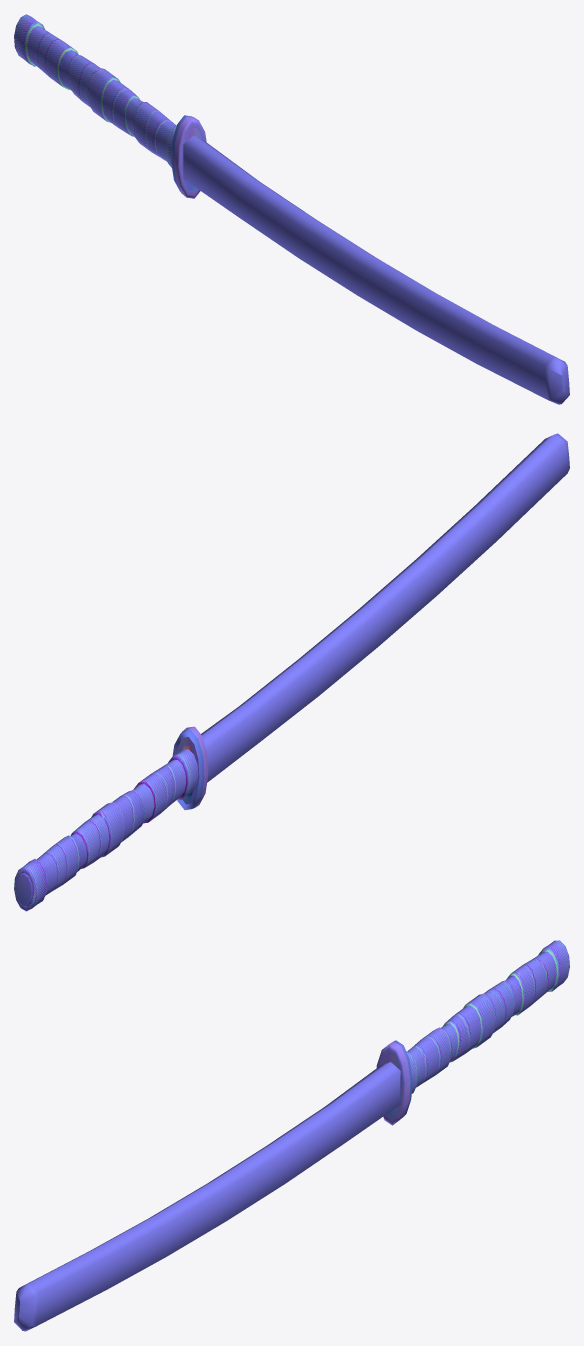
Rendered from Katana.fbx.
3 renders of one model, top to bottom at view 1: azimuth 30°, elevation 25°; view 2: azimuth 150°, elevation 25°; view 3: azimuth 330°, elevation 25°, orthographic.
Visible parts, largest first — view 1: sheathe_mesh, katana_mesh; view 2: sheathe_mesh, katana_mesh; view 3: sheathe_mesh, katana_mesh.
Part boxes in pixels (x1,y1,x2,y2): sheathe_mesh: (183,136,569,404); katana_mesh: (14,14,206,198); sheathe_mesh: (201,433,569,782); katana_mesh: (14,726,208,911); sheathe_mesh: (14,1062,400,1331); katana_mesh: (376,940,569,1125).
Bounding box in the file's own units: 2.64 × 8.86 × 81.
Materials: 1 (1 with a texture image).
